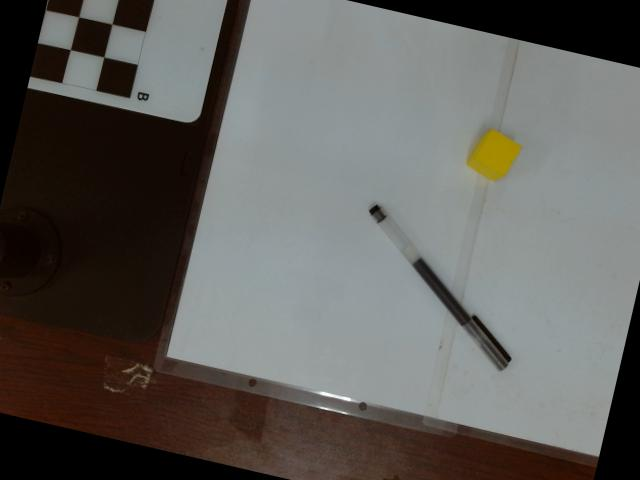PEN: (363, 201, 514, 371)
